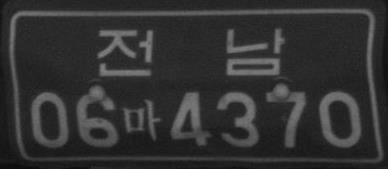0: (316, 89, 362, 148), (30, 91, 69, 148)
3: (216, 90, 259, 148)
4: (171, 91, 211, 146)
6: (75, 91, 117, 147)
7: (265, 90, 306, 149)
마: (121, 98, 161, 142)
전남_D: (97, 27, 285, 75)
